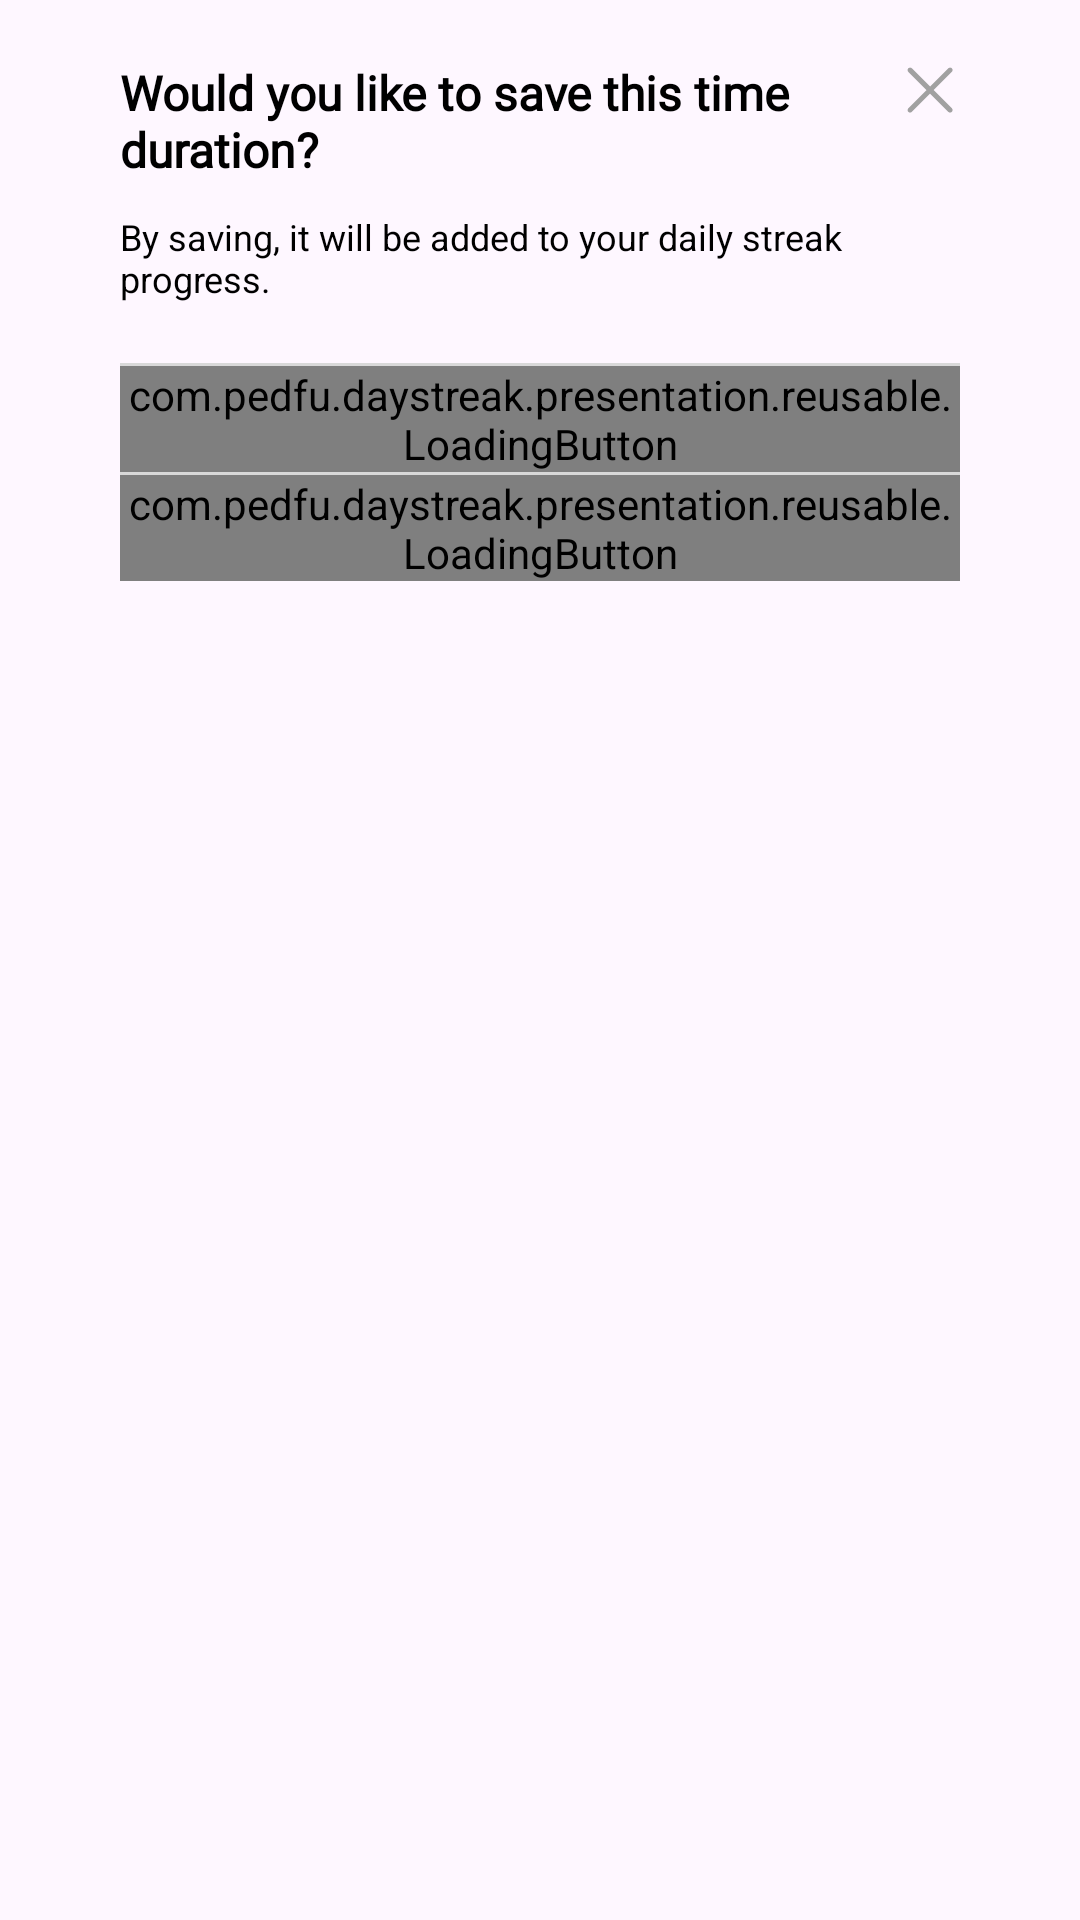

Icons on this 1080px×1920px Android screen, each with its box as (x1=x1, y1=y1, x2=x2, y2=y2):
close: (x1=907, y1=67, x2=953, y2=113)
